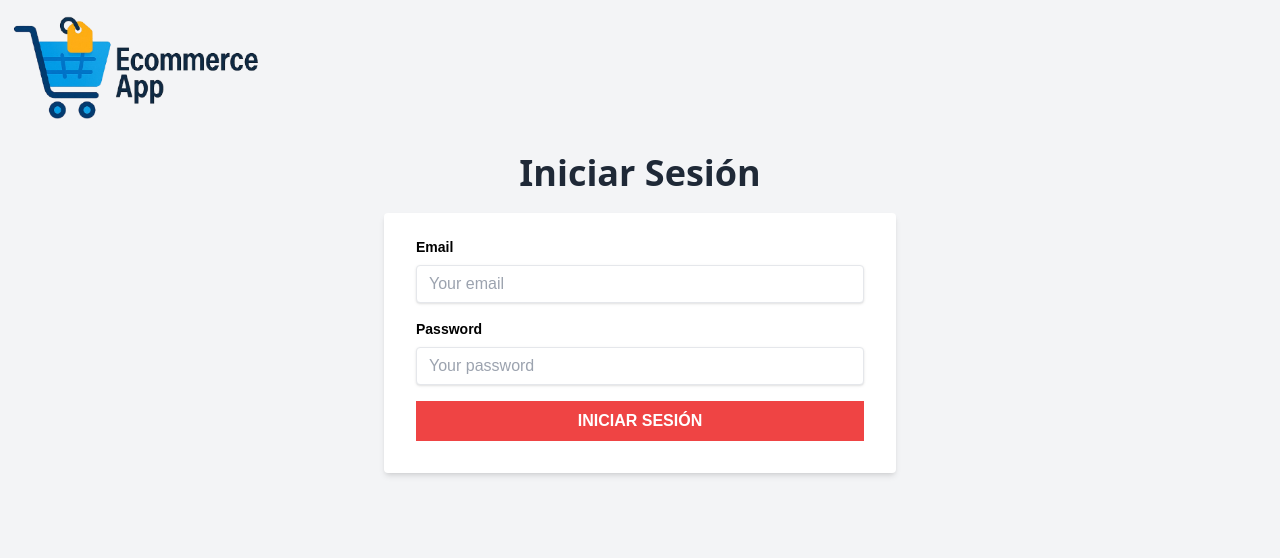
Test: <Login/> Pruebas login › <Login/> Validaciones, alertas en formulario
Click the button with test id "login-submit" at (640, 421), box [416,401,864,441]
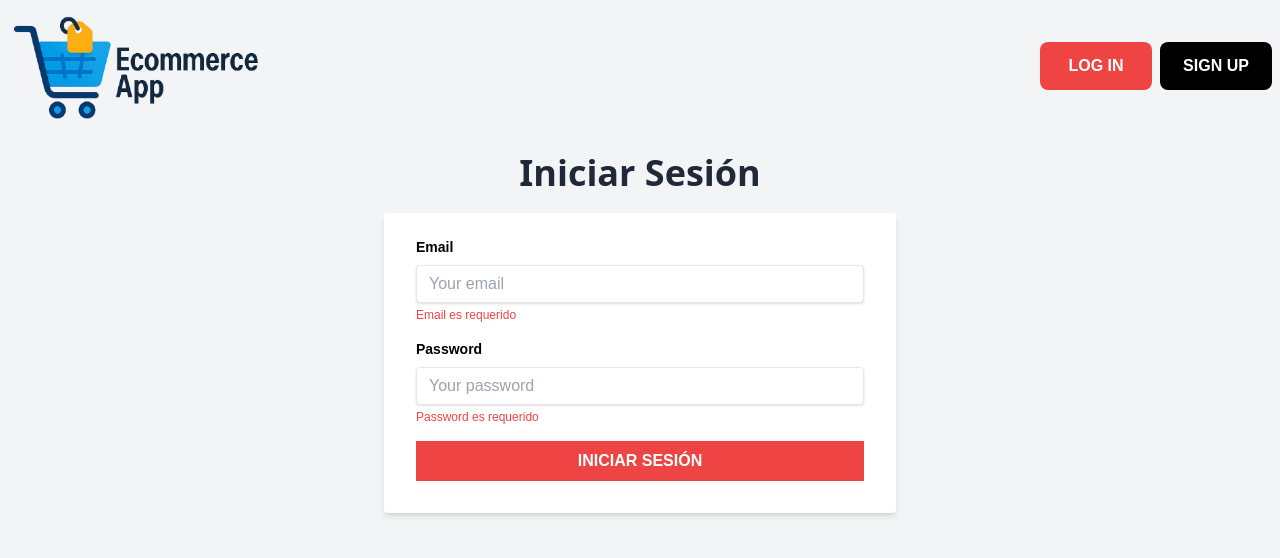
Now the text with test id "error-email" reads "Email es requerido", box [416,308,516,322]
Now the text with test id "error-password" reads "Password es requerido", box [416,410,539,424]
Type "correo@correo.com" into the field with test id "login-email" at (640, 284), box [416,265,864,303]
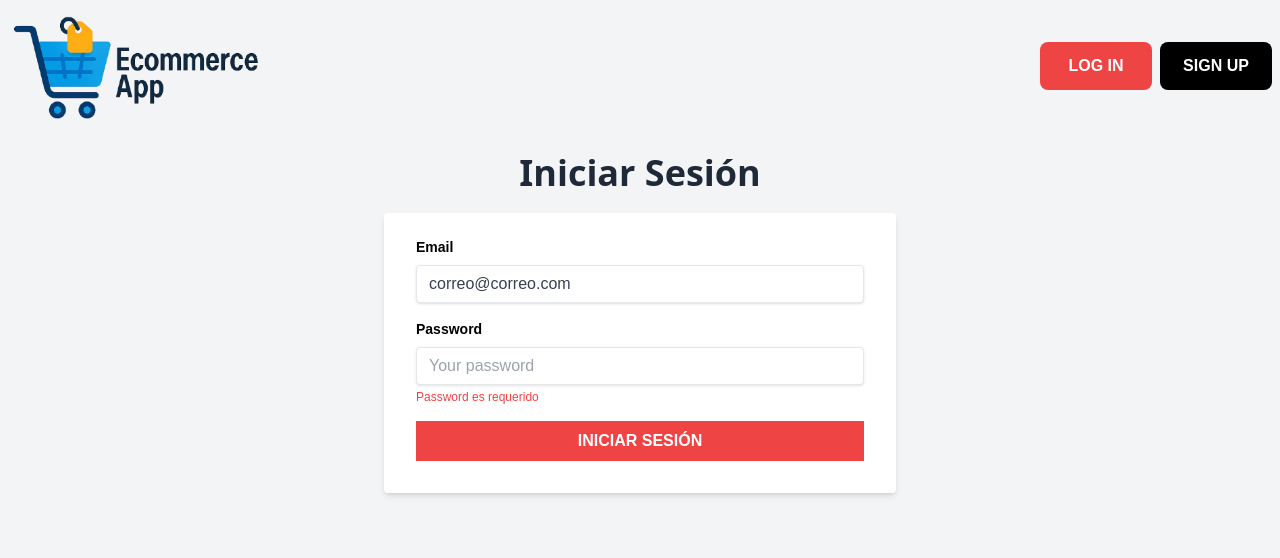
Type "123456" into the password field with test id "login-password" at (640, 366), box [416,347,864,385]
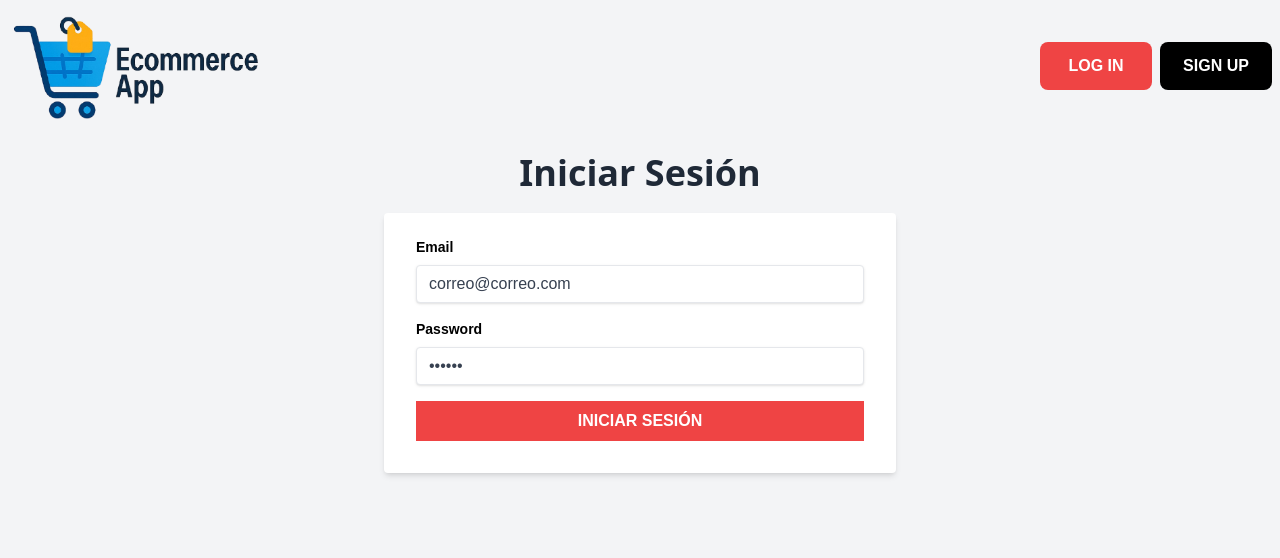
Click the button with test id "login-submit" at (640, 421), box [416,401,864,441]
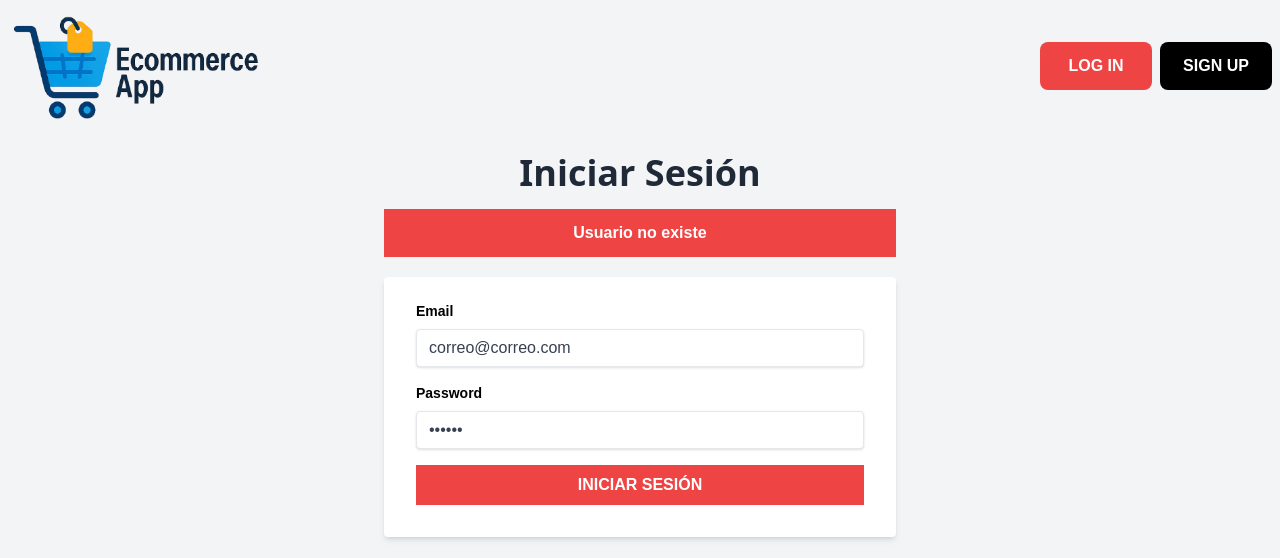
Now the text with test id "alerta" reads "Usuario no existe", box [384,209,896,257]
Replace the text in the field with test id "login-email" with "bella@correo.com" at (640, 348), box [416,329,864,367]
Type "1234" into the password field with test id "login-password" at (640, 430), box [416,411,864,449]
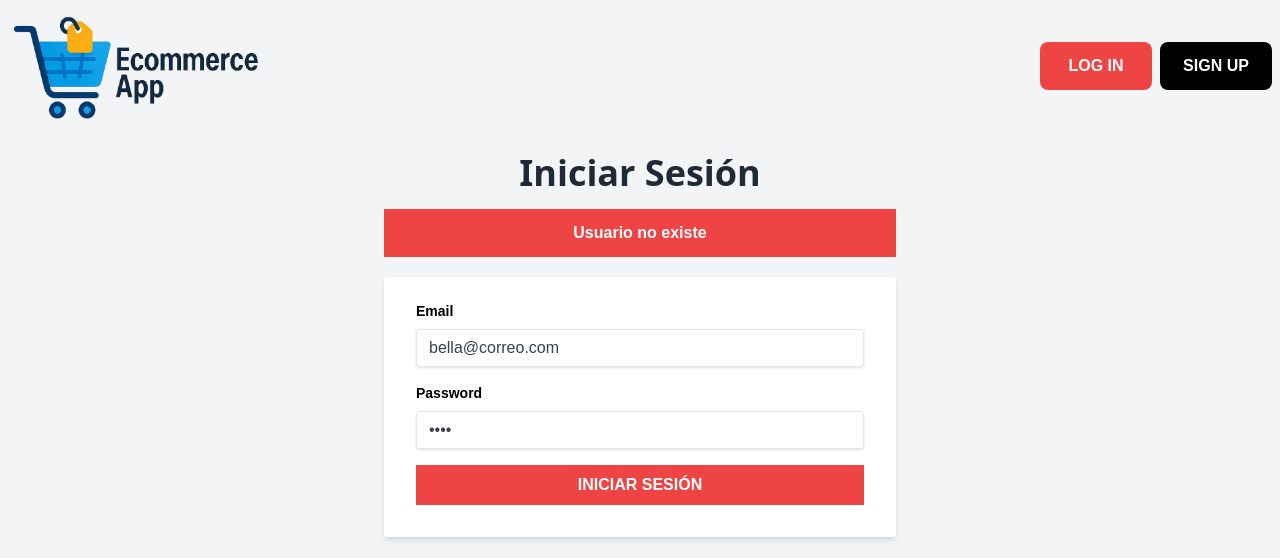
Click the button with test id "login-submit" at (640, 485), box [416,465,864,505]
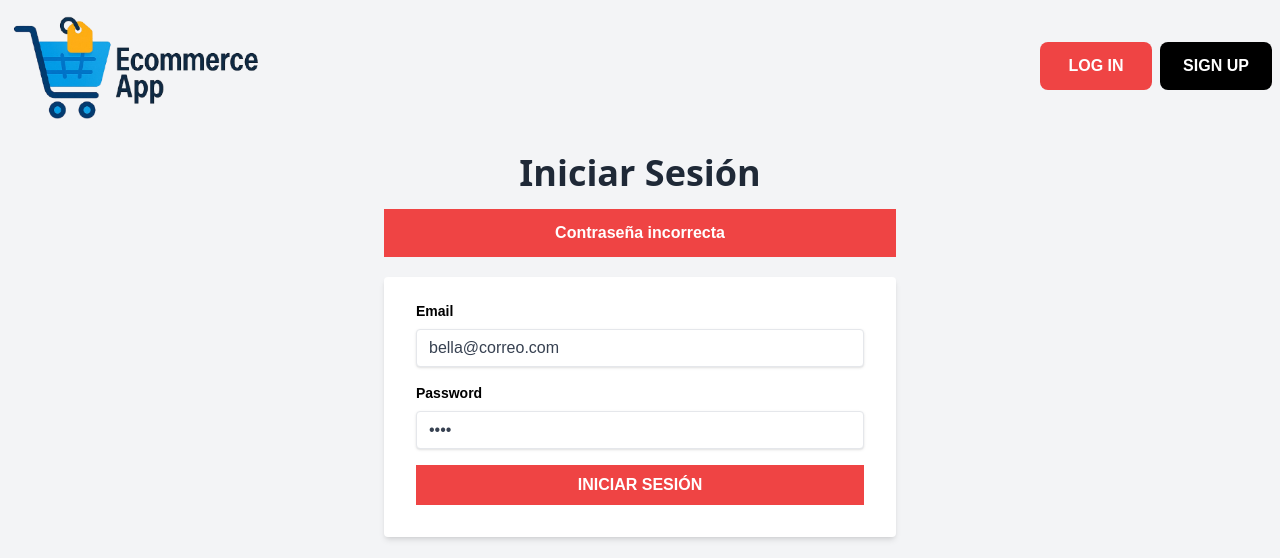
Now the text with test id "alerta" reads "Contraseña incorrecta", box [384,209,896,257]
